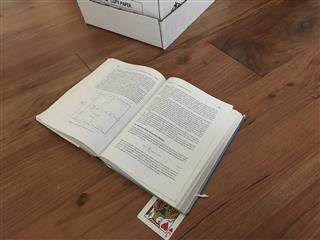JackOfHearts: (136, 193, 185, 239)
